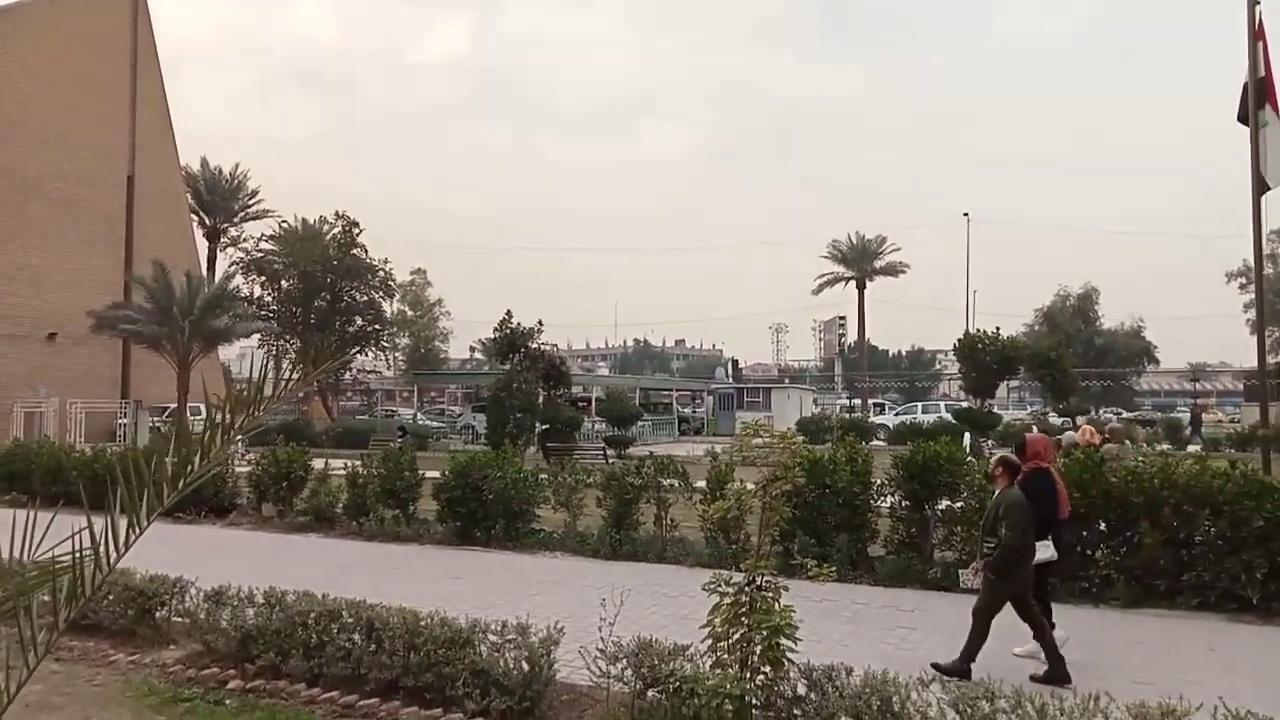car: (868, 400, 969, 440), (146, 402, 230, 435), (636, 401, 705, 435)
person: (929, 452, 1073, 687), (1011, 431, 1071, 662), (1185, 404, 1204, 449), (394, 424, 413, 451)
tree: (85, 257, 264, 460), (231, 209, 398, 423), (1016, 280, 1160, 415), (810, 229, 910, 411), (697, 566, 802, 717), (469, 308, 571, 455), (777, 432, 879, 574), (178, 153, 277, 286), (879, 434, 977, 564), (430, 443, 547, 548), (341, 439, 426, 533), (1224, 226, 1279, 364), (385, 265, 453, 375), (951, 325, 1023, 409), (243, 438, 313, 520), (1175, 360, 1221, 444), (546, 454, 590, 538), (595, 385, 644, 457), (950, 403, 1003, 460), (529, 346, 572, 406), (1177, 360, 1213, 405), (768, 321, 789, 367)
